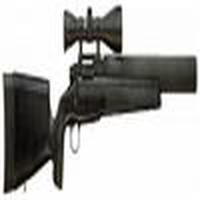gun: (4, 8, 194, 191)
